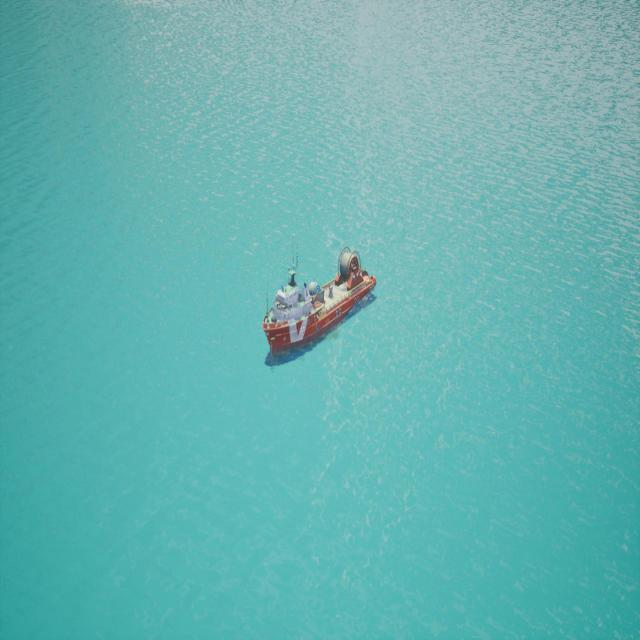tug boat: (262, 250, 381, 367)
